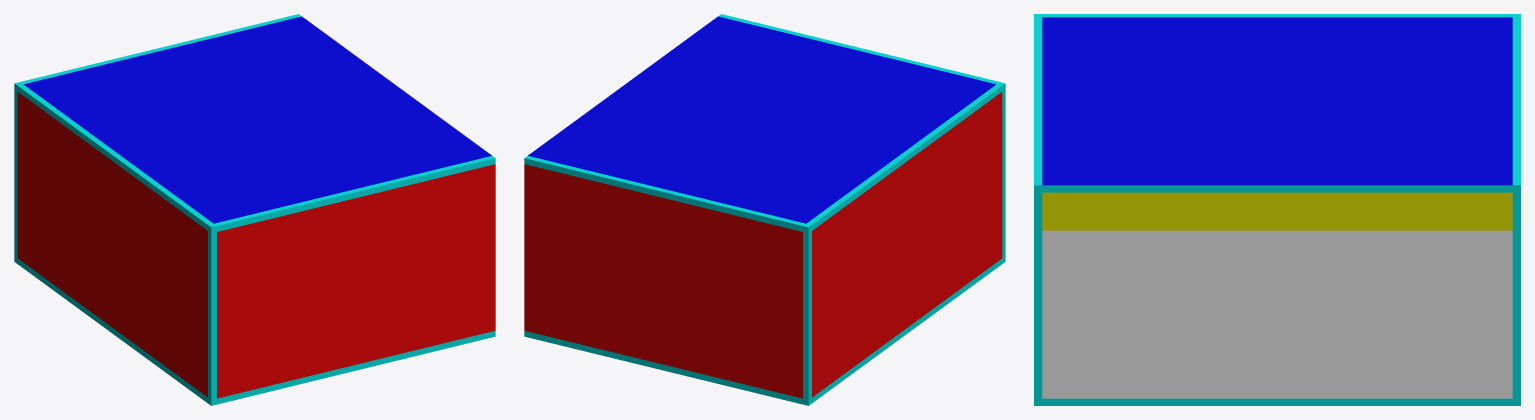
File: Med_Block.fbx
3 renders of one model, left to right at view 1: azimuth 30°, elevation 25°; view 2: azimuth 150°, elevation 25°; view 3: azimuth 270°, elevation 25°, orthographic. The views are drawn at different scales.
Visible parts, largest first — view 1: MedBlock; view 2: MedBlock; view 3: MedBlock.
Boxes of the visible parts, bbox=[...] form: MedBlock: bbox=[14, 14, 495, 405]; MedBlock: bbox=[524, 14, 1005, 405]; MedBlock: bbox=[1034, 14, 1520, 405].
Bounding box in the file's own units: 5 × 3 × 6.
